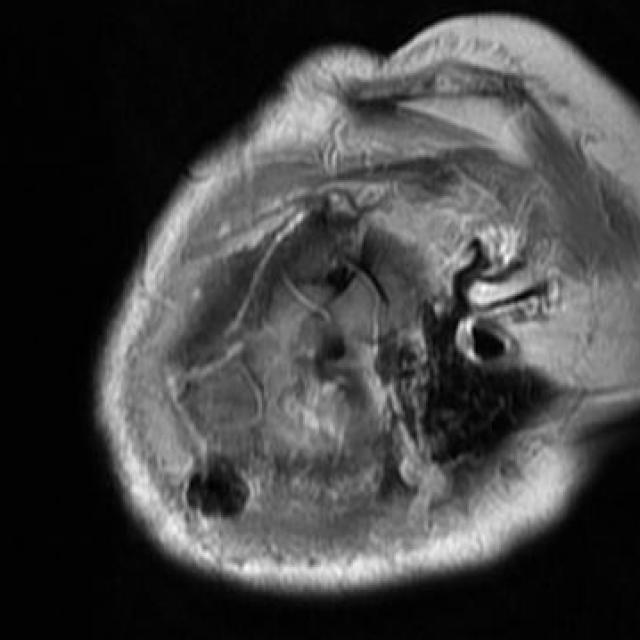glioma: (253, 275, 351, 458)
